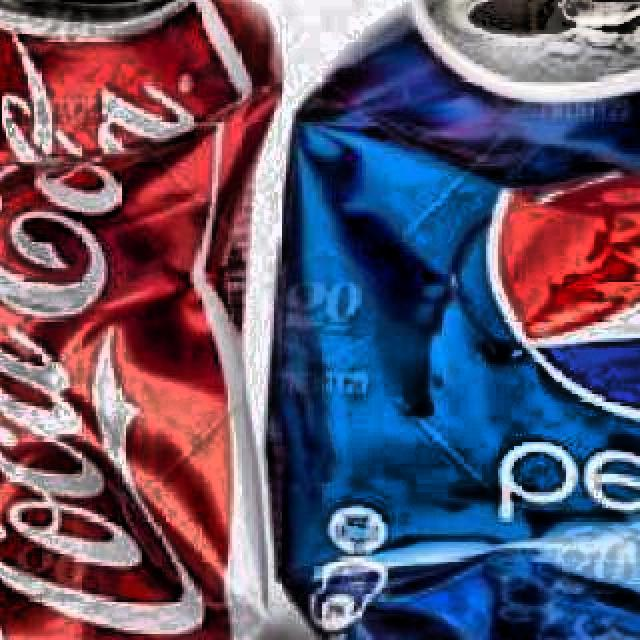metal: (260, 0, 640, 640)
